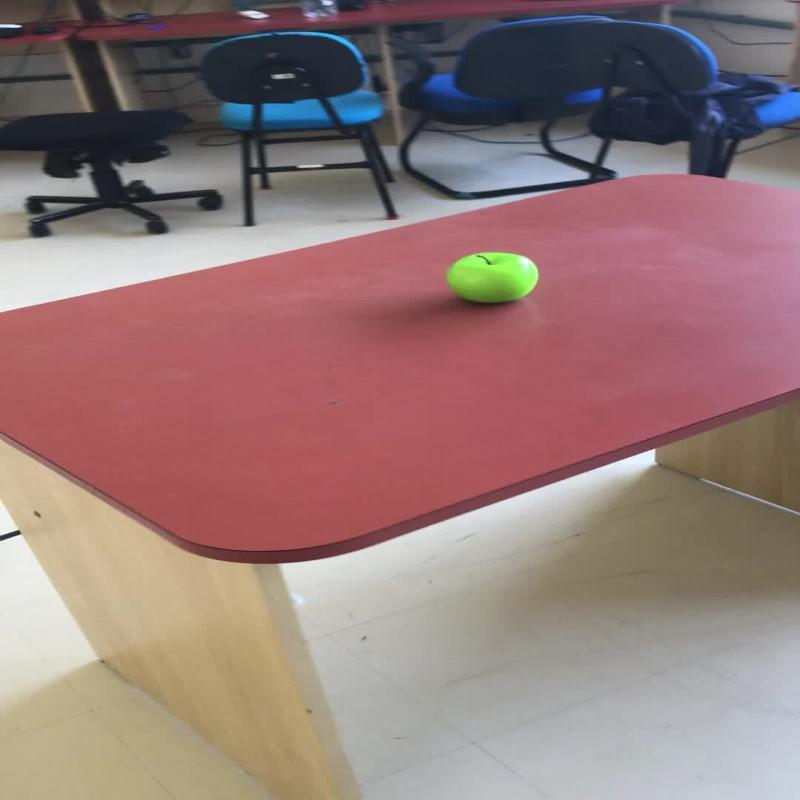apple: (444, 251, 538, 303)
